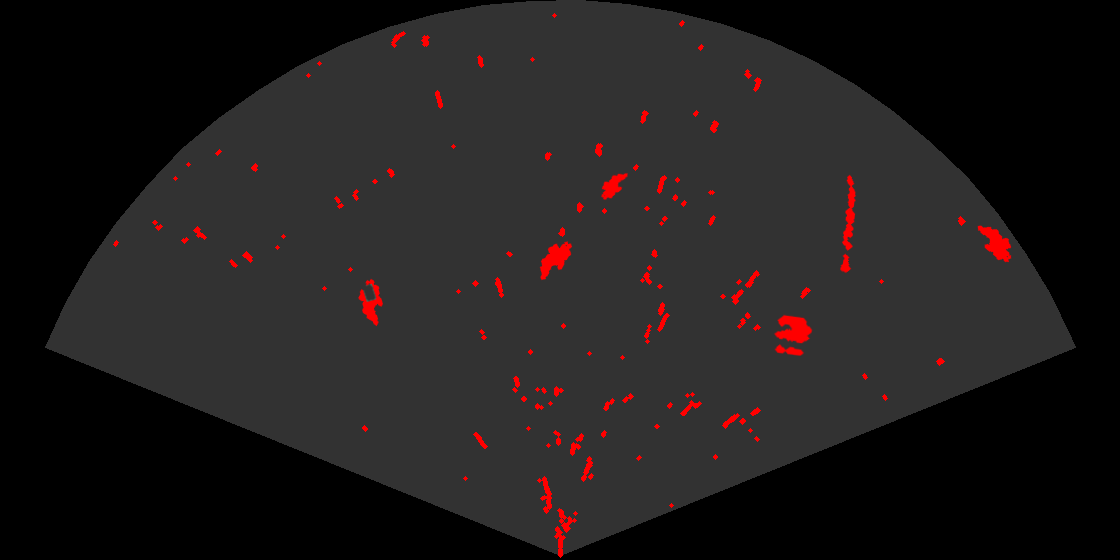AUV: (976, 224, 1013, 264), (538, 240, 574, 281), (357, 277, 385, 328), (599, 171, 629, 202)
ball: (772, 313, 814, 357)
chain: (839, 173, 858, 275)
